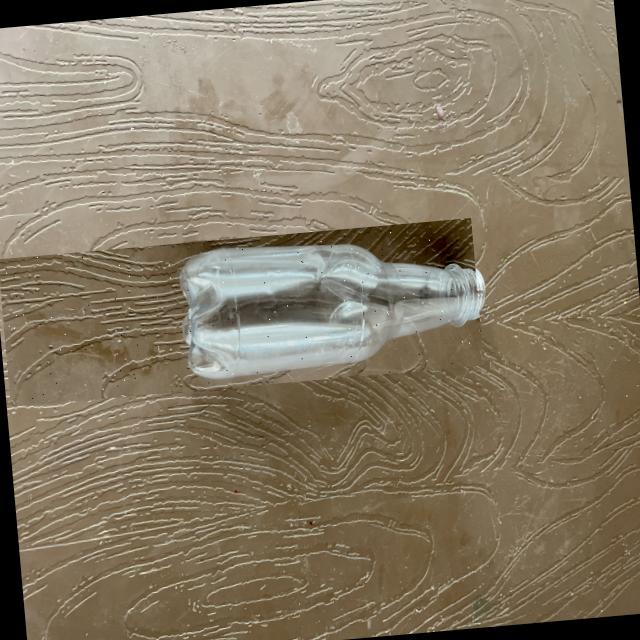PET_ClearBottle: (0, 216, 483, 405)
